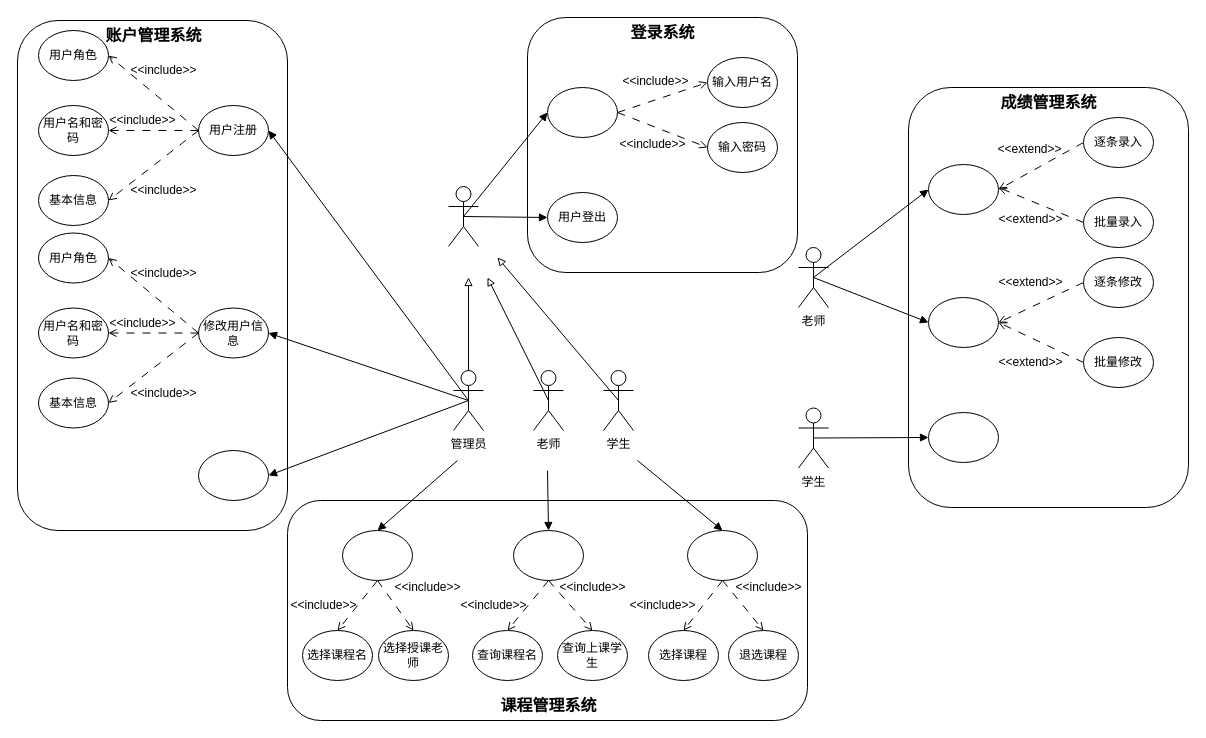
This 1206x738 diagram has some shape labels left out. Each missing label, with the box of its shape:
修改成绩: (928, 296, 998, 348)
录入成绩: (928, 164, 998, 214)
成绩查询: (928, 412, 998, 462)
授课安排: (342, 530, 412, 580)
授课查询: (512, 530, 584, 580)
注销用户: (198, 450, 268, 500)
用户: (448, 186, 478, 246)
用户登录: (546, 86, 618, 138)
课程选择: (686, 530, 758, 580)
